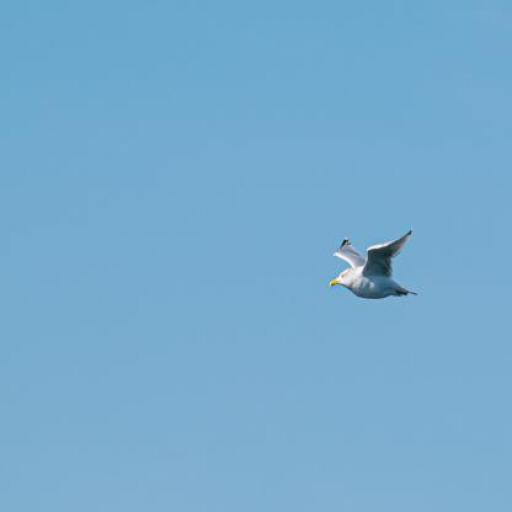bird: (318, 214, 430, 326)
